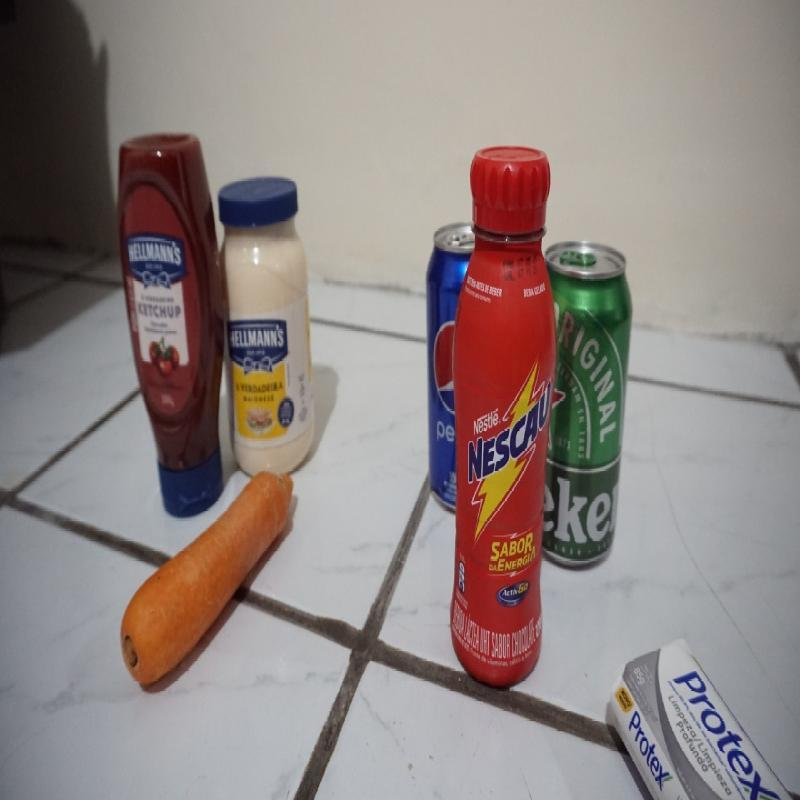Beer can: (551, 242, 628, 571)
Carrot: (123, 474, 291, 692)
Chocolate Milk: (456, 144, 552, 698)
Ketchup: (116, 138, 222, 510)
Mayonnaise: (216, 178, 312, 477)
Soap: (611, 642, 790, 800)
Soda can: (424, 219, 463, 510)
